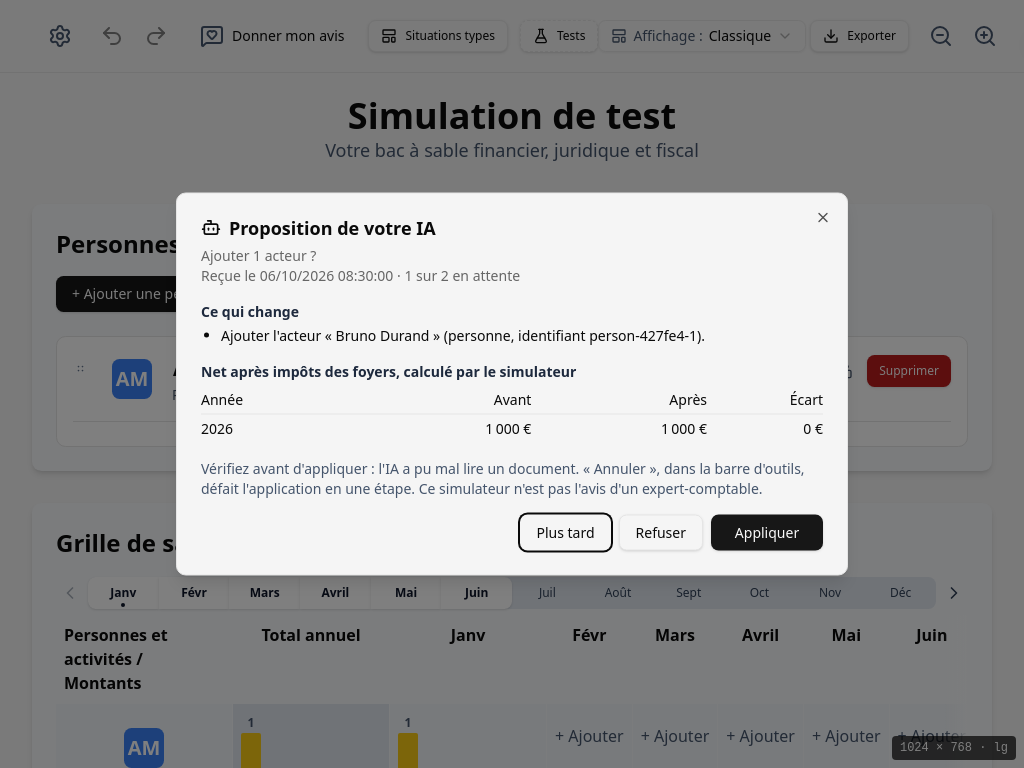
Test case: App : propositions d'un client d'IA › « Plus tard » garde la proposition dans la boîte et passe à la suivante
This screenshot has width=1024, height=768.
Expected: the heading "Simulation de test" is shown, [348,91,676,140]
Expected: the text "Reçue le 06/10/2026 08:30:00 · 1 sur 2 en attente" is shown, [201,266,520,284]
Step 1. Click the button "Plus tard" → (565, 532), box [520,514,610,550]
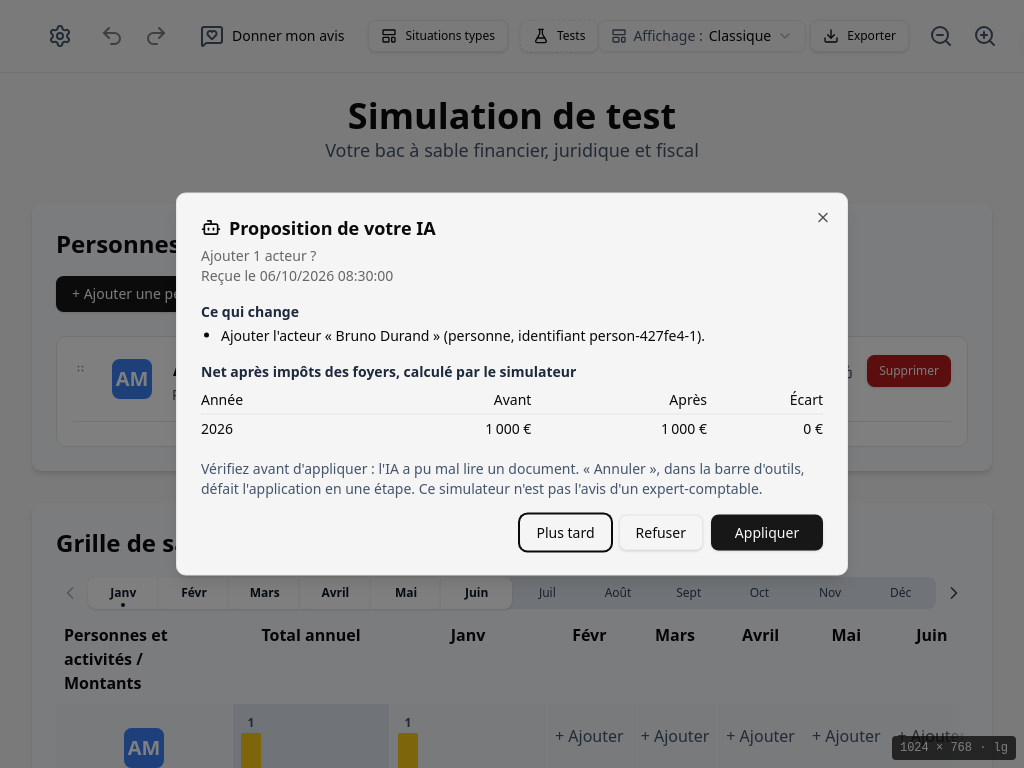
Result: the text "en attente" is gone
Step 2. Click the button "Plus tard" → (565, 532), box [520,514,610,550]
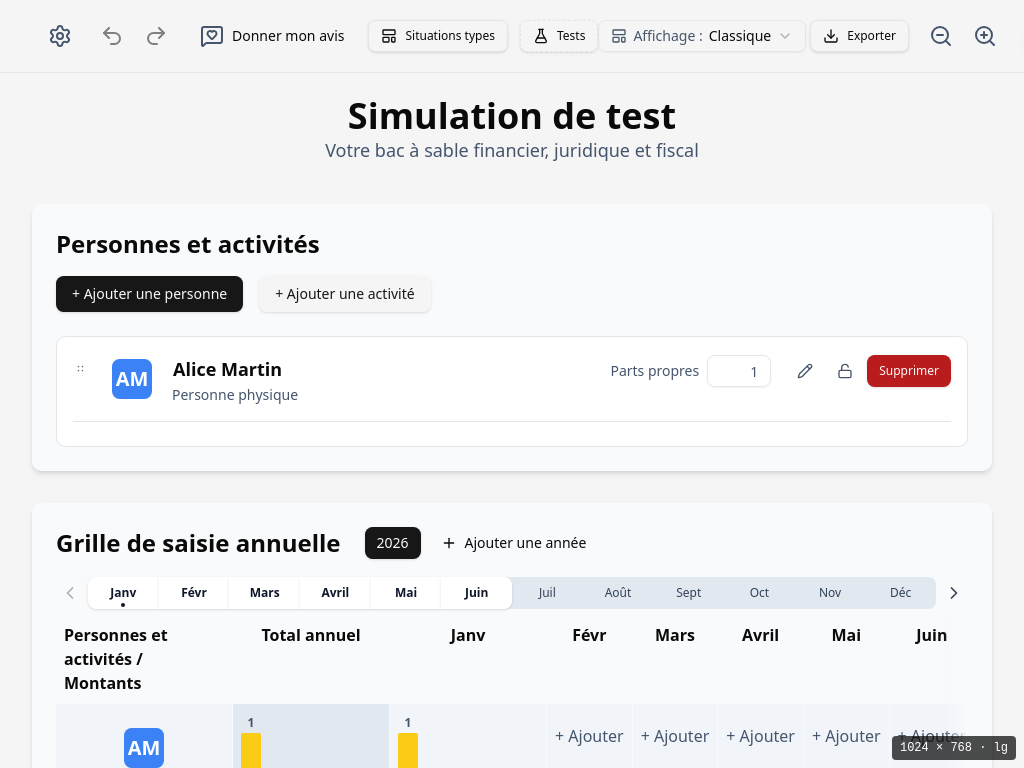
Result: the dialog is gone
